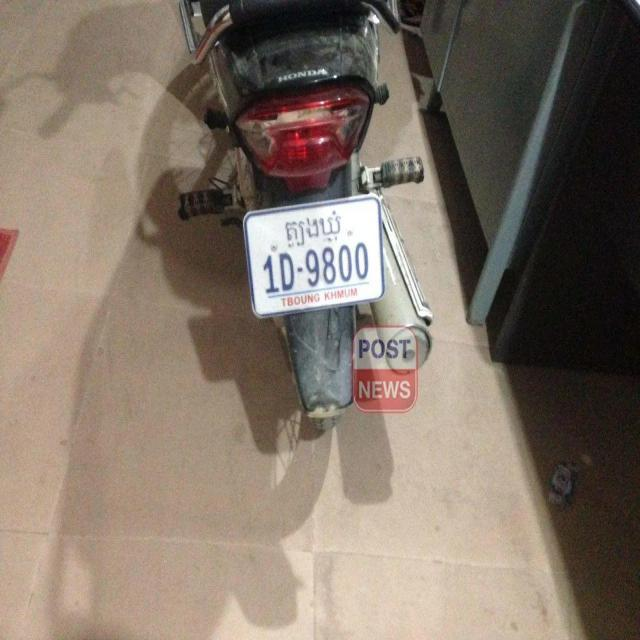Tboung_Khmum: (283, 205, 346, 250)
